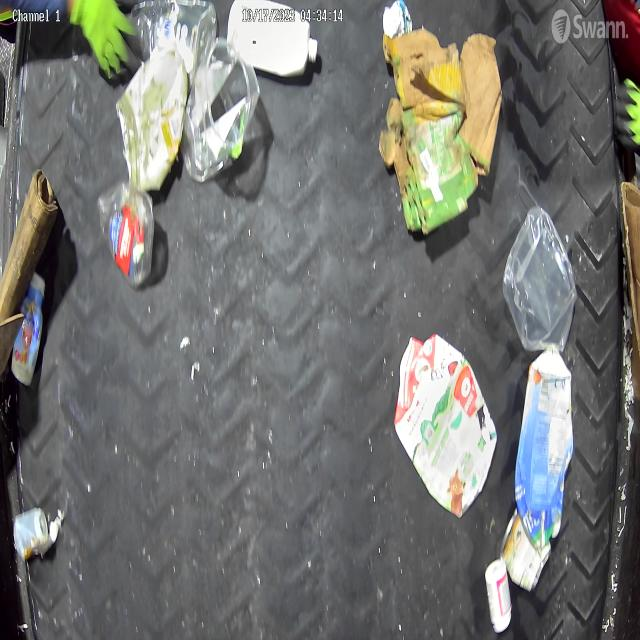non_white_jug: (516, 350, 573, 550)
